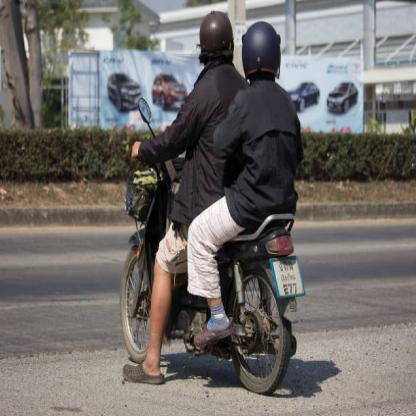Motorcycle: (112, 134, 301, 395)
